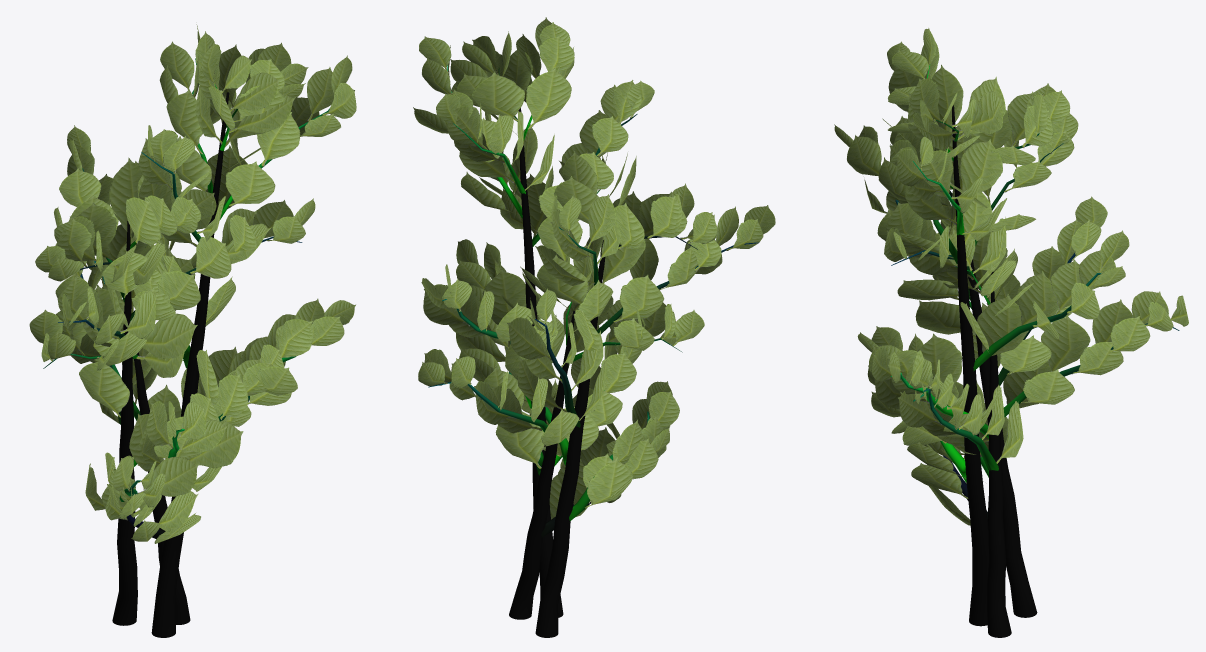
Rendered from Ficus.fbx.
3 renders of one model, left to right at view 1: azimuth 30°, elevation 25°; view 2: azimuth 150°, elevation 25°; view 3: azimuth 270°, elevation 25°, orthographic. The views are drawn at different scales.
Parts seen in each view (by area): view 1: Tree_1, Tree_0; view 2: Tree_1, Tree_0; view 3: Tree_1, Tree_0.
Part boxes in pixels (bbox=[...]): Tree_1: bbox=[29, 24, 356, 543]; Tree_0: bbox=[43, 58, 329, 637]; Tree_1: bbox=[413, 17, 775, 519]; Tree_0: bbox=[428, 65, 758, 637]; Tree_1: bbox=[834, 28, 1188, 525]; Tree_0: bbox=[891, 65, 1179, 637].
Size of the model in its own units: 213 by 340 by 187.
1 material, 1 textured.
